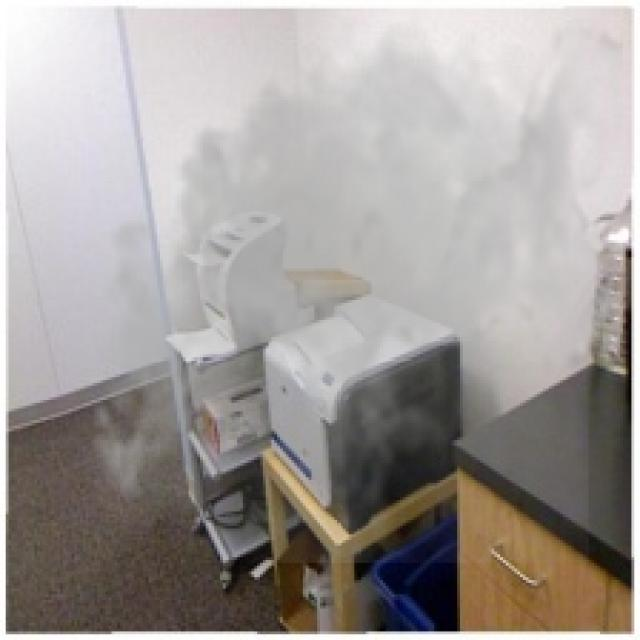smoke: (74, 3, 623, 563)
